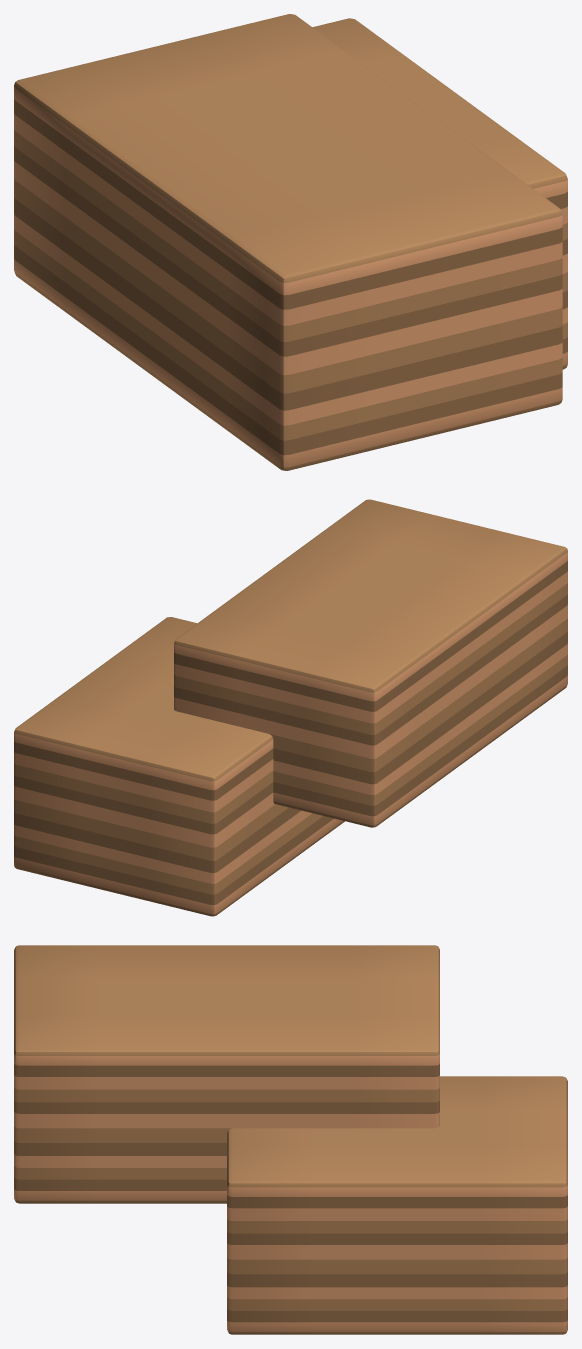
The model's file is Cube_Grass_SideBottom_Tall.044.fbx.
The picture shows the model from 3 angles, top to bottom: view 1: azimuth 30°, elevation 25°; view 2: azimuth 150°, elevation 25°; view 3: azimuth 270°, elevation 25°; orthographic projection. The views are drawn at different scales.
Visible parts, largest first — view 1: Cube_Grass_SideBottom_Tall.044; view 2: Cube_Grass_SideBottom_Tall.044; view 3: Cube_Grass_SideBottom_Tall.044.
Part boxes in pixels (x1,y1,x2,y2): Cube_Grass_SideBottom_Tall.044: (14, 14, 567, 470); Cube_Grass_SideBottom_Tall.044: (14, 499, 567, 916); Cube_Grass_SideBottom_Tall.044: (14, 945, 567, 1334).
Size of the model in its own units: 900 by 600 by 1300.
